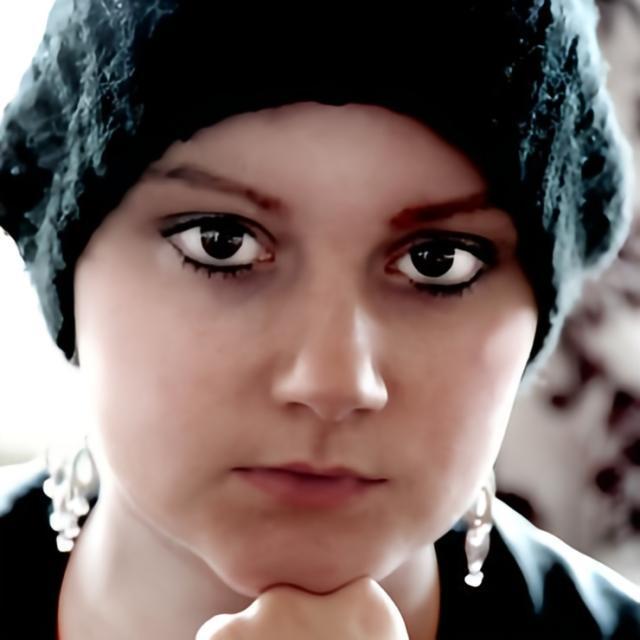neutral: (75, 99, 542, 602)
